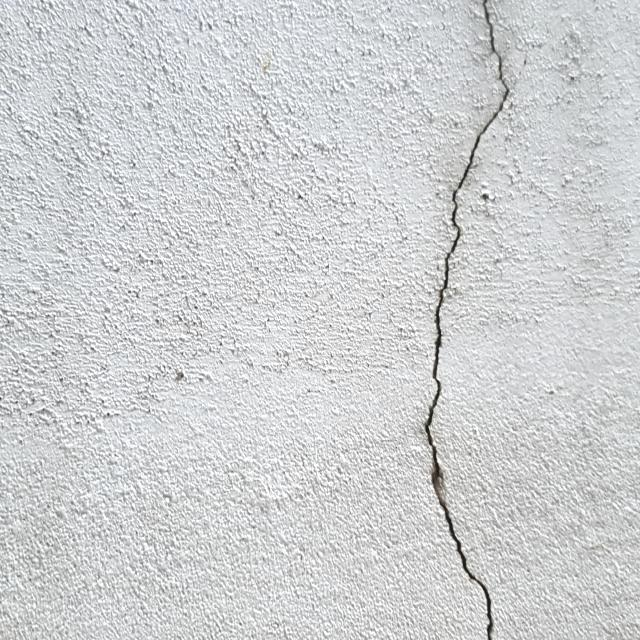SurfaceCrack: (386, 0, 540, 638)
